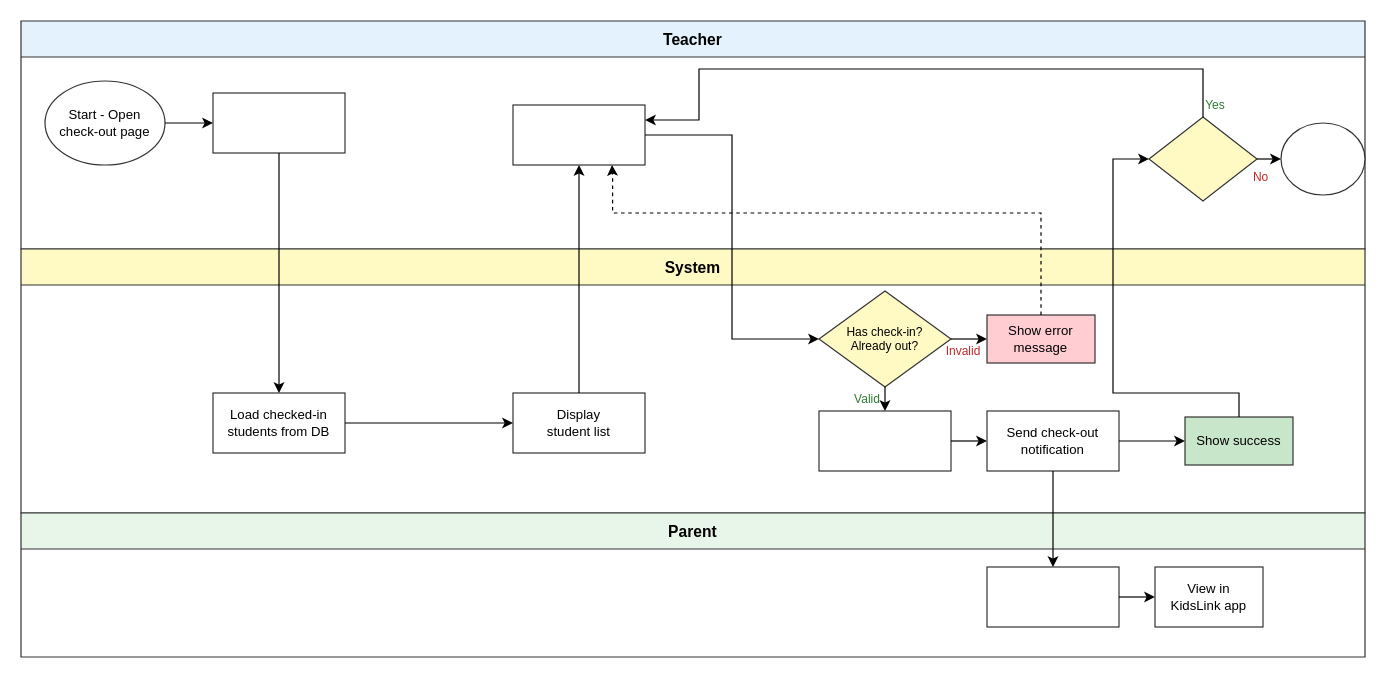
Image size: 1386x678. Some labels were removed from this diagram. The centre of each missing label's shape, as x and y in pixels:
Click check-out for a student: (578,134)
End: (1322,158)
More students?: (1202,158)
Receive check-out notification: (1052,596)
Select class and date: (278,122)
Update DailyReport (checkout_time): (884,440)
